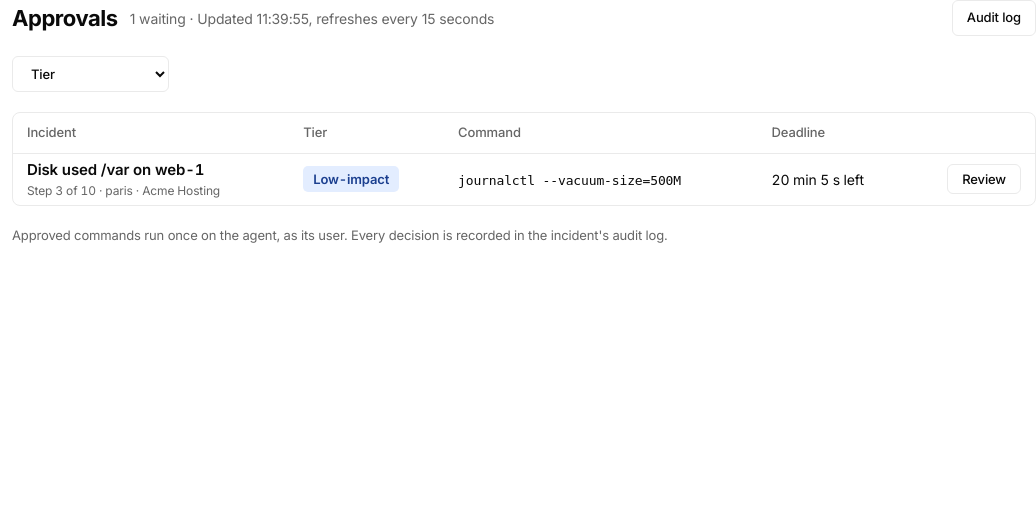
Test: ApprovalQueue › shows the AI's text, the rule and that rollback is limited
This screenshot has width=1036, height=521.
What coordinates should you click on to do the following:
click the button with aria-label "Review the command for web-1"
I would click on:
 (984, 179)
Its box is [947,164,1021,194].
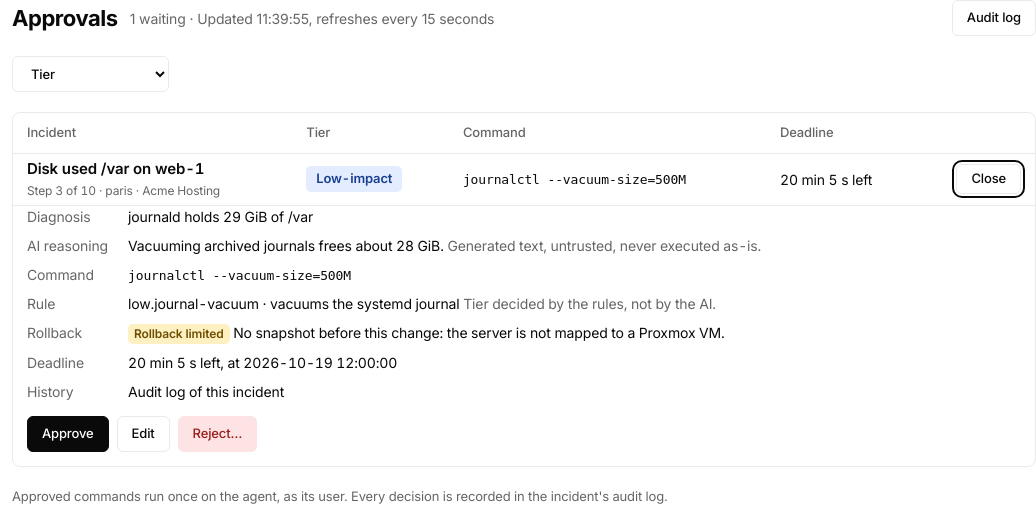
Expected: the button with aria-label "Close the command for web-1" is expanded, [956,164,1021,194]
Expected: the text "journald holds 29 GiB of /var" is shown, [128,208,313,224]
Expected: the text "Generated text, untrusted, never executed as-is." is shown, [447,236,761,254]
